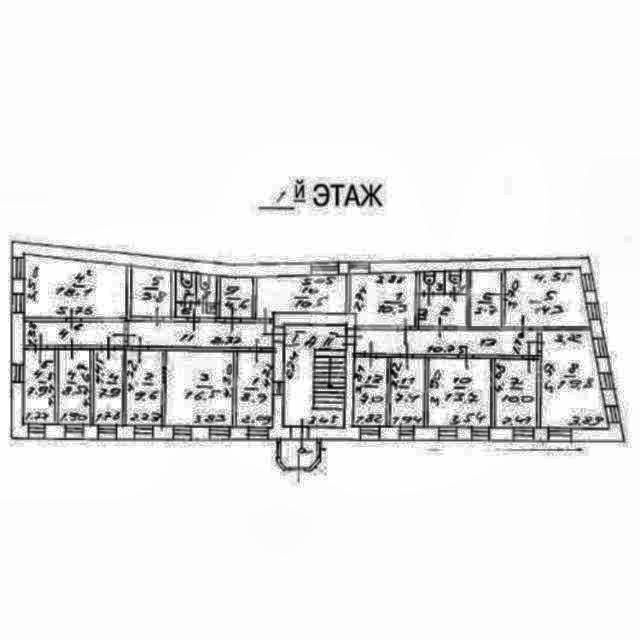room: (24, 252, 126, 317), (541, 331, 609, 428), (284, 324, 343, 427), (166, 350, 232, 425), (505, 269, 590, 326), (356, 329, 537, 355), (429, 358, 490, 426), (256, 275, 346, 318), (129, 321, 272, 347), (350, 271, 415, 326), (495, 359, 536, 427), (126, 350, 161, 424), (238, 351, 271, 427), (58, 350, 90, 422), (24, 322, 123, 345), (391, 357, 423, 425), (25, 349, 54, 423), (131, 265, 171, 317), (355, 357, 385, 425), (94, 350, 121, 424), (471, 271, 501, 326), (420, 295, 466, 326), (220, 277, 253, 318), (281, 440, 317, 467), (176, 271, 196, 301), (176, 303, 215, 317), (197, 273, 216, 301), (420, 272, 443, 292), (445, 272, 466, 292)
